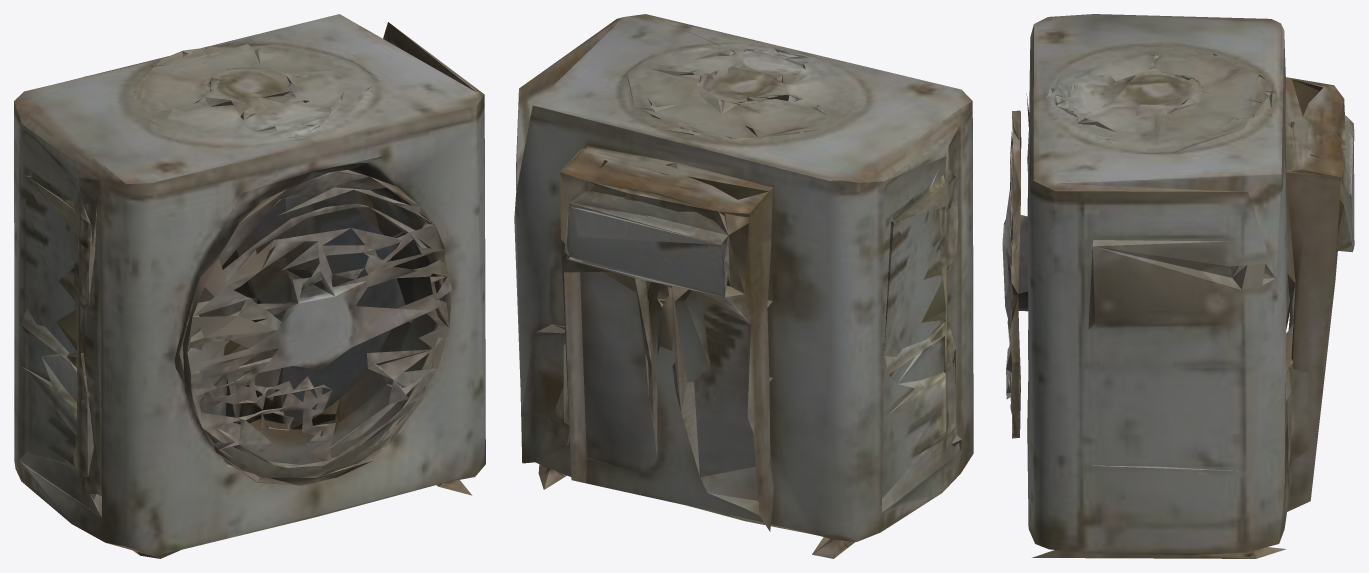
3 views of the same model, side by side, from view 1: azimuth 30°, elevation 25°; view 2: azimuth 150°, elevation 25°; view 3: azimuth 270°, elevation 25° (orthographic). The views are drawn at different scales.
Visible parts, largest first — view 1: ac; view 2: ac; view 3: ac.
Boxes of the visible parts, x1,y1,x2,y2 form: ac: (14, 14, 485, 558); ac: (514, 14, 973, 558); ac: (1002, 14, 1354, 558).
Size of the model in its own units: 0.893 by 0.9 by 0.7238.
Materials: 1 (1 with a texture image).
